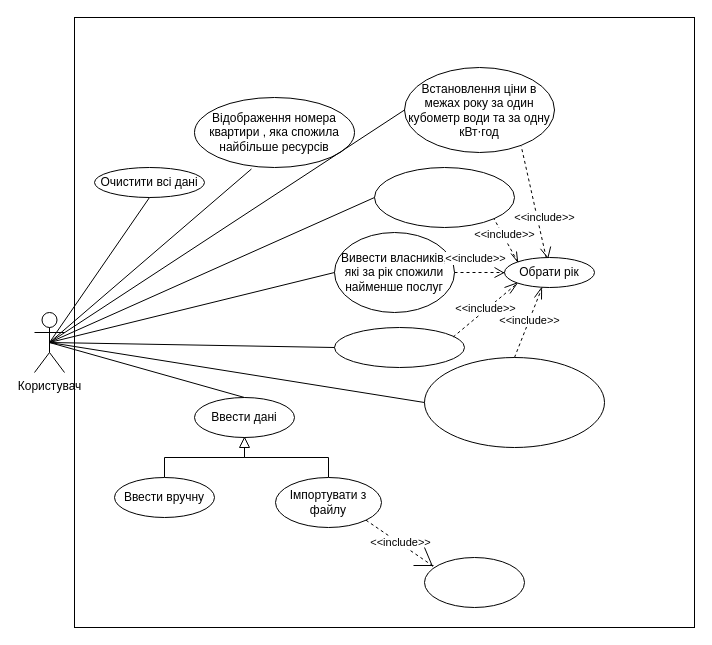
Image size: 712x645. Some labels were removed from this diagram. The shapes that lost their labels are listed below. From the top down, each one's centre as x and y in pixels, then its label:
the point at 444,197: Відображення місяців, для яких інформація не заповнена
the point at 399,347: Вивести дані у файл
the point at 514,402: Відображення вартості спожитих послуг по місячно, агреговану для всіх квартир
the point at 474,582: Обрати файл
